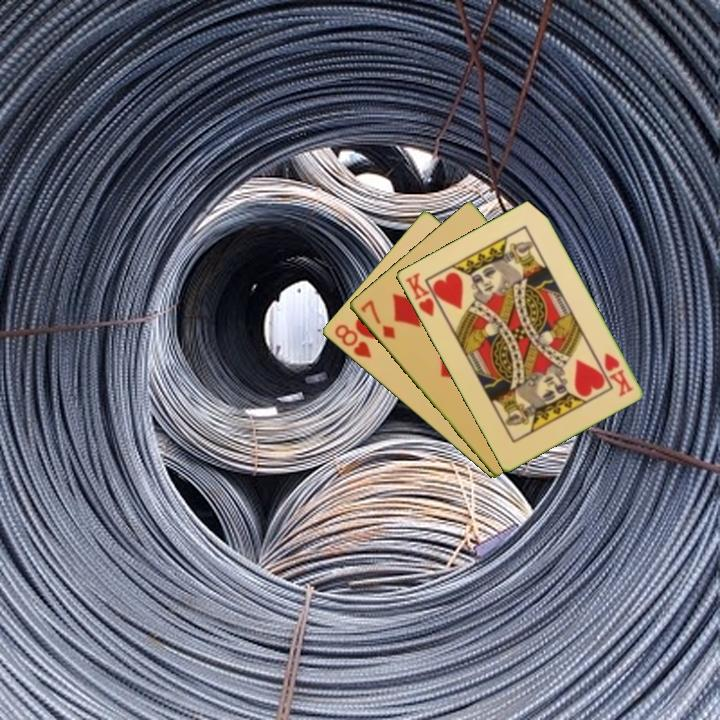7d: (356, 296, 398, 342)
8h: (330, 320, 374, 361)
Kh: (401, 269, 446, 319), (600, 349, 636, 399)
